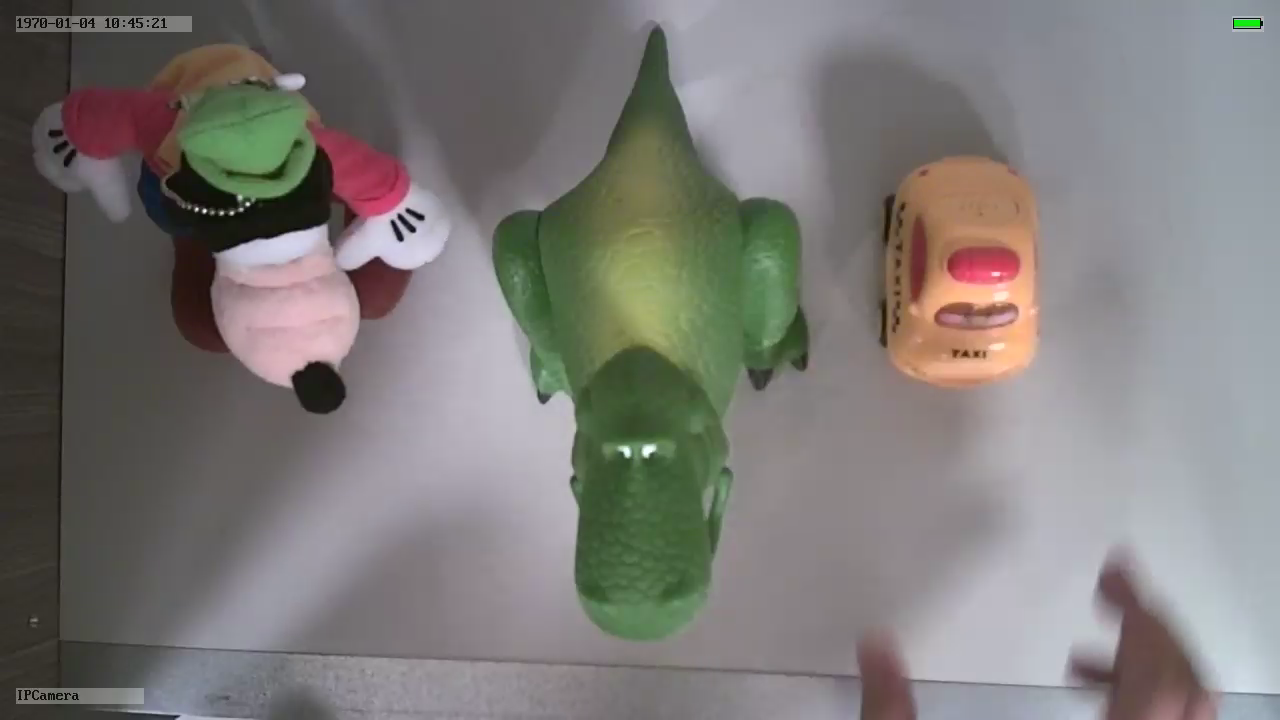goofy: (30, 41, 452, 412)
